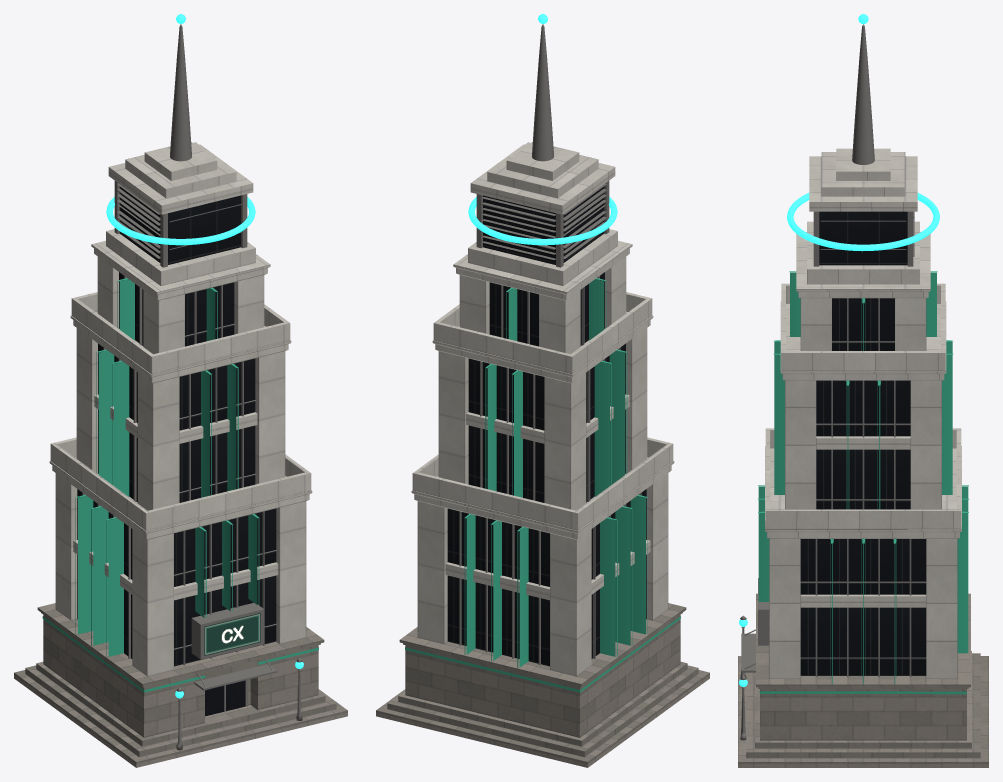
Rendered from s04-curable-x.glb.
3 renders of one model, left to right at view 1: azimuth 30°, elevation 25°; view 2: azimuth 150°, elevation 25°; view 3: azimuth 270°, elevation 25°, orthographic. The views are drawn at different scales.
Parts seen in each view (by area): view 1: Landmark · Curable.X (Series 4); view 2: Landmark · Curable.X (Series 4); view 3: Landmark · Curable.X (Series 4).
Boxes of the visible parts, x1,y1,x2,y2 form: Landmark · Curable.X (Series 4): [14, 14, 347, 767]; Landmark · Curable.X (Series 4): [376, 14, 709, 767]; Landmark · Curable.X (Series 4): [738, 14, 988, 767].
Bounding box in the file's own units: 12 × 37 × 12.
7 materials, 4 textured.
